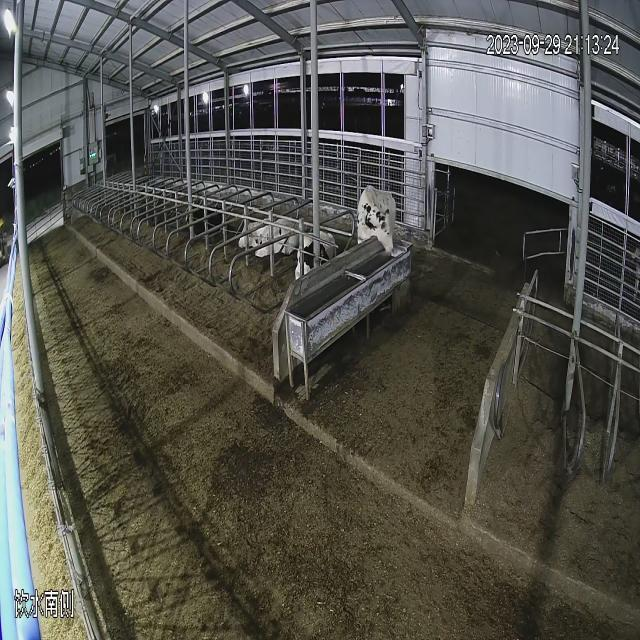drinking: (350, 168, 416, 280)
lying down: (296, 224, 342, 284), (181, 198, 227, 252)
